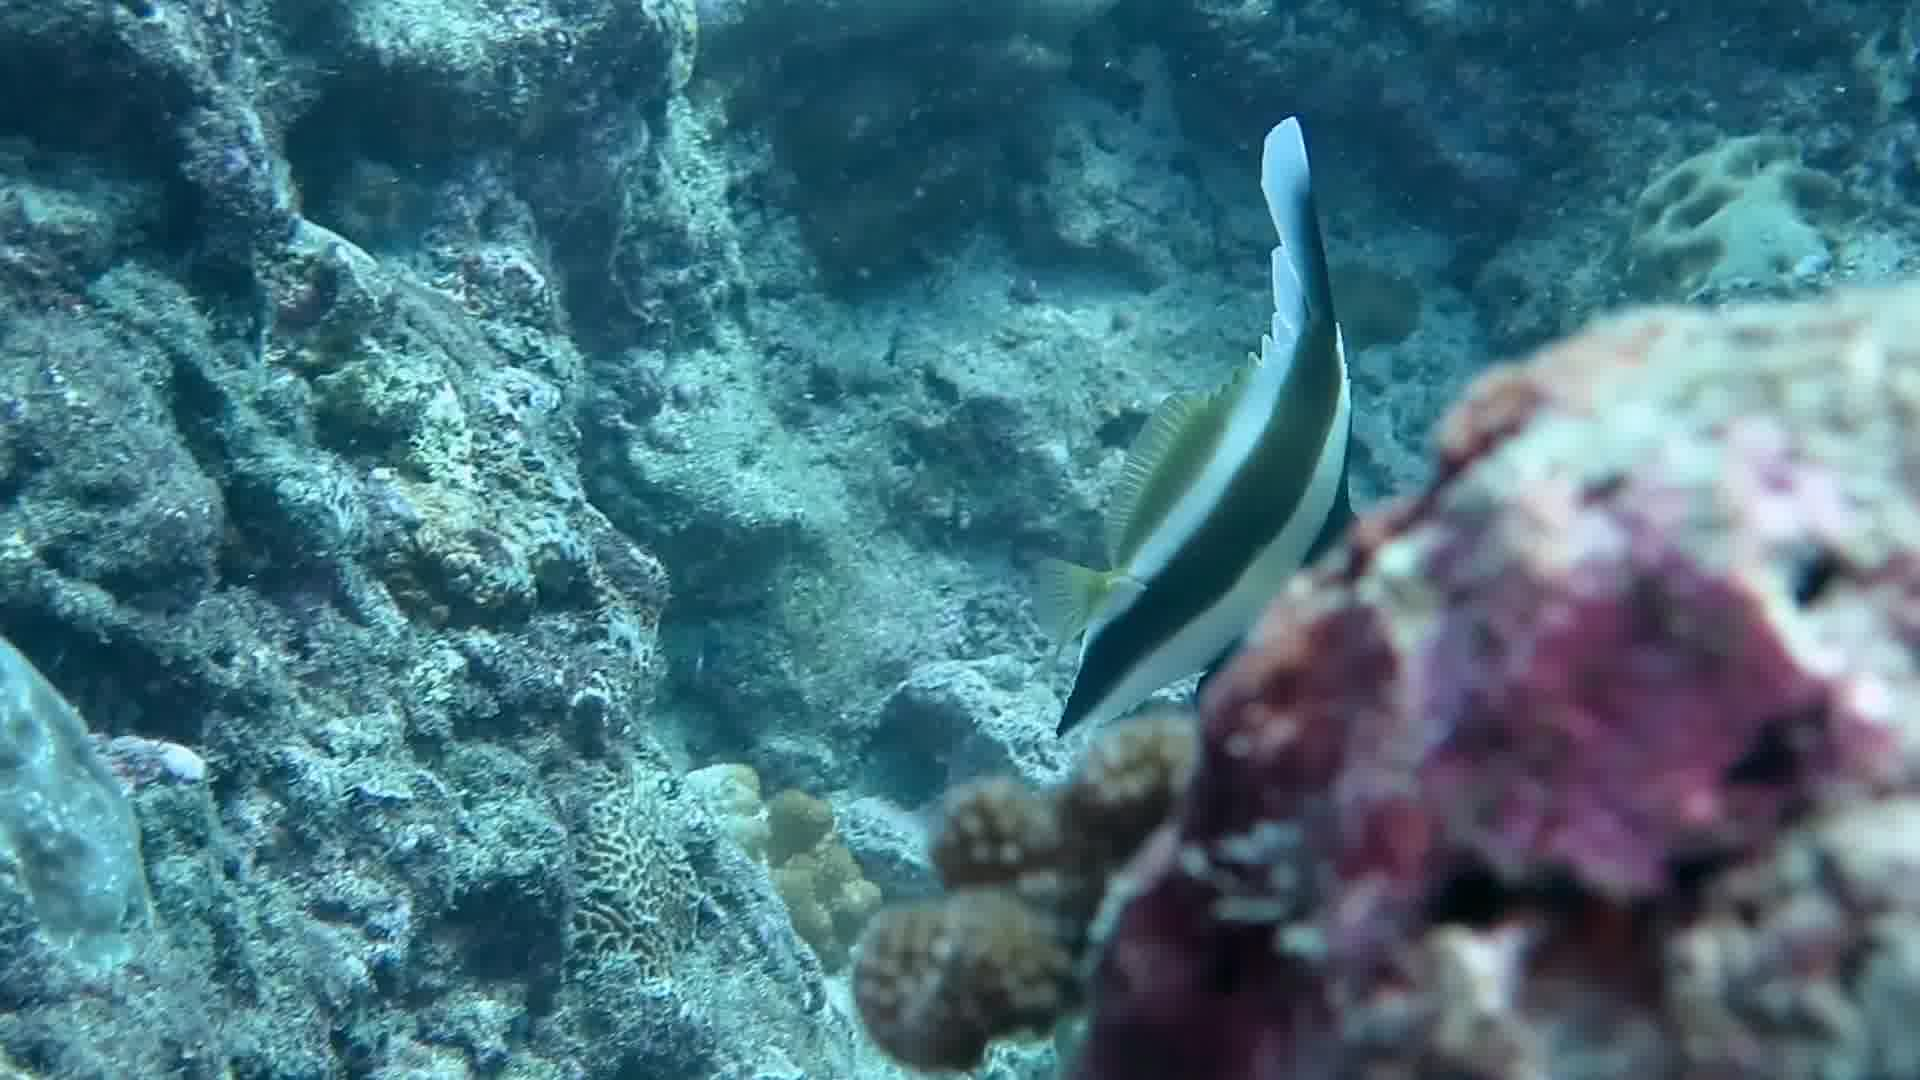Heniochus chrysostomus: (1042, 44, 1408, 770)
